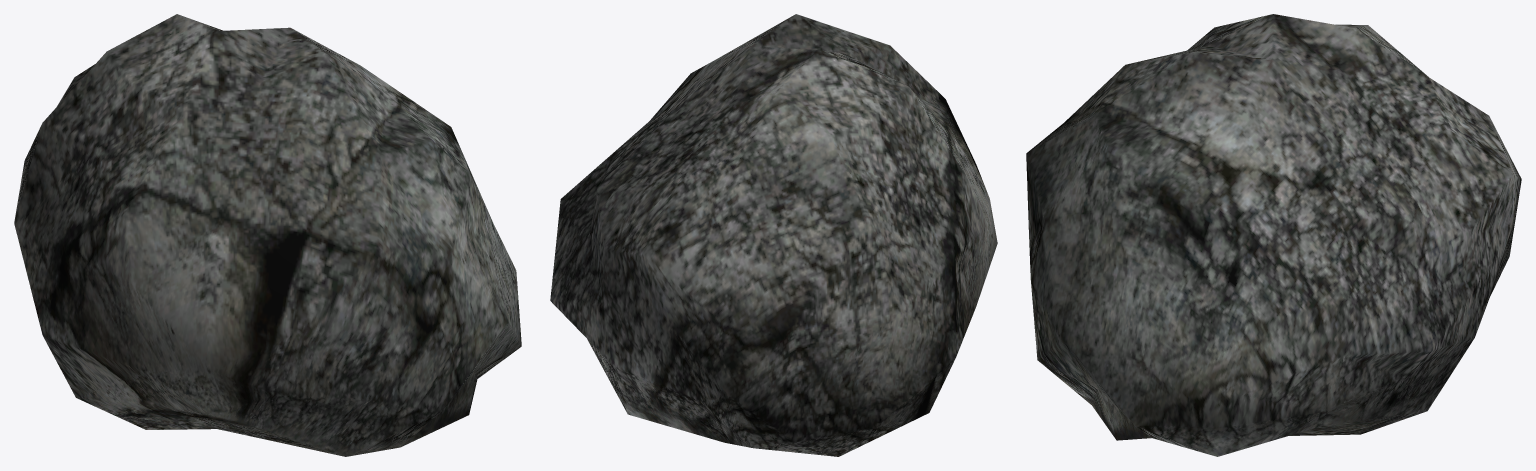
File: stone_large01.dae
3 renders of one model, left to right at view 1: azimuth 30°, elevation 25°; view 2: azimuth 150°, elevation 25°; view 3: azimuth 270°, elevation 25°, orthographic. The views are drawn at different scales.
Parts seen in each view (by area): view 1: stone_large01_mesh; view 2: stone_large01_mesh; view 3: stone_large01_mesh.
Boxes of the visible parts, left/top/right/bottom form: stone_large01_mesh: left=14, top=14, right=521, bottom=456; stone_large01_mesh: left=550, top=14, right=997, bottom=456; stone_large01_mesh: left=1026, top=14, right=1521, bottom=456.
Bounding box in the file's own units: 1.34 × 1.19 × 1.45.
